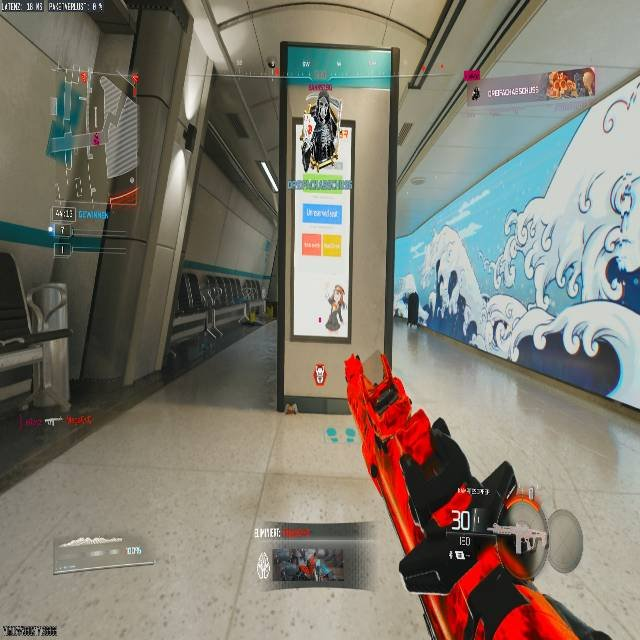player: (302, 84, 342, 168), (323, 285, 344, 335)
